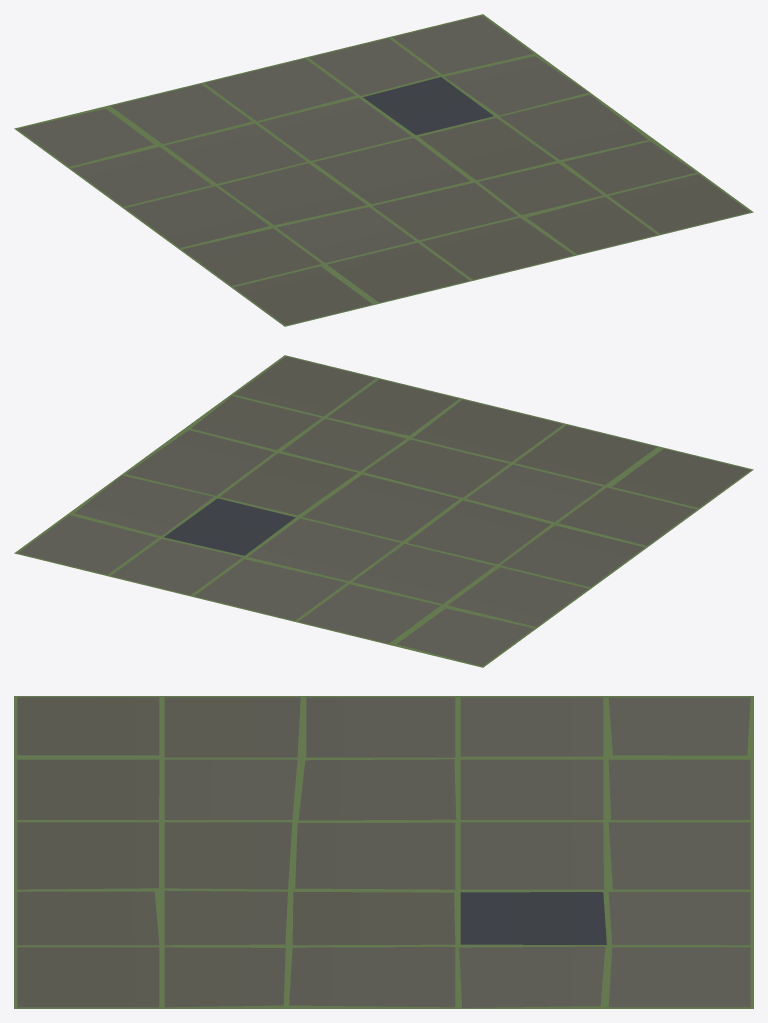
The model's file is Tile_05.fbx.
3 views of the same model, one above another, from view 1: azimuth 30°, elevation 25°; view 2: azimuth 150°, elevation 25°; view 3: azimuth 270°, elevation 25° (orthographic). The views are drawn at different scales.
Visible parts, largest first — view 1: Tile_05; view 2: Tile_05; view 3: Tile_05.
Boxes of the visible parts, left/top/right/bottom form: Tile_05: left=14, top=14, right=753, bottom=326; Tile_05: left=14, top=355, right=753, bottom=667; Tile_05: left=14, top=696, right=753, bottom=1008.
Bounding box in the file's own units: 3 × 0 × 3.
